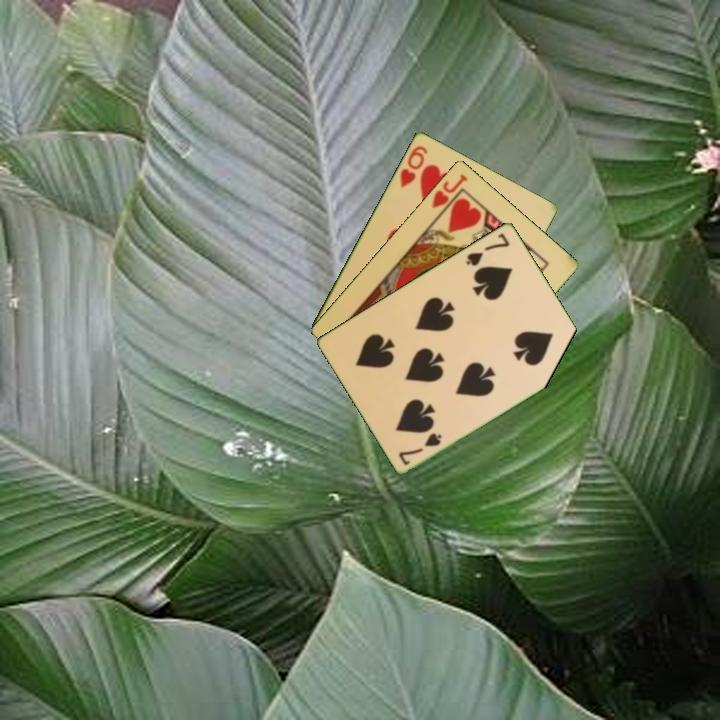6h: (396, 142, 430, 190)
7s: (462, 229, 512, 268), (395, 429, 445, 468)
Jh: (428, 170, 471, 220)
